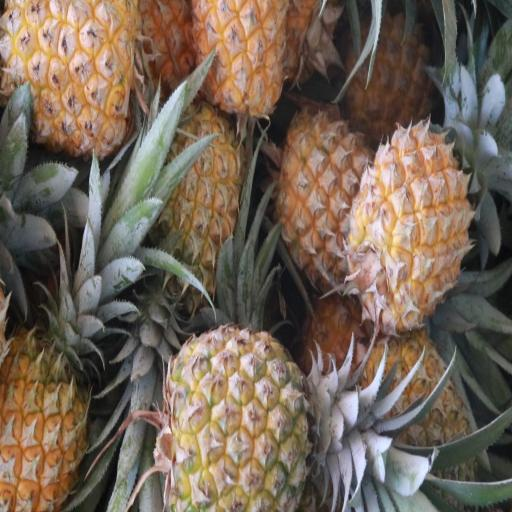------------------------------: (162, 328, 325, 512), (358, 338, 472, 502), (277, 109, 372, 290)
Pineapple - v8 v1: (347, 124, 467, 324), (0, 0, 133, 152), (0, 332, 99, 512), (156, 114, 239, 316), (344, 13, 433, 141), (197, 1, 286, 121)
